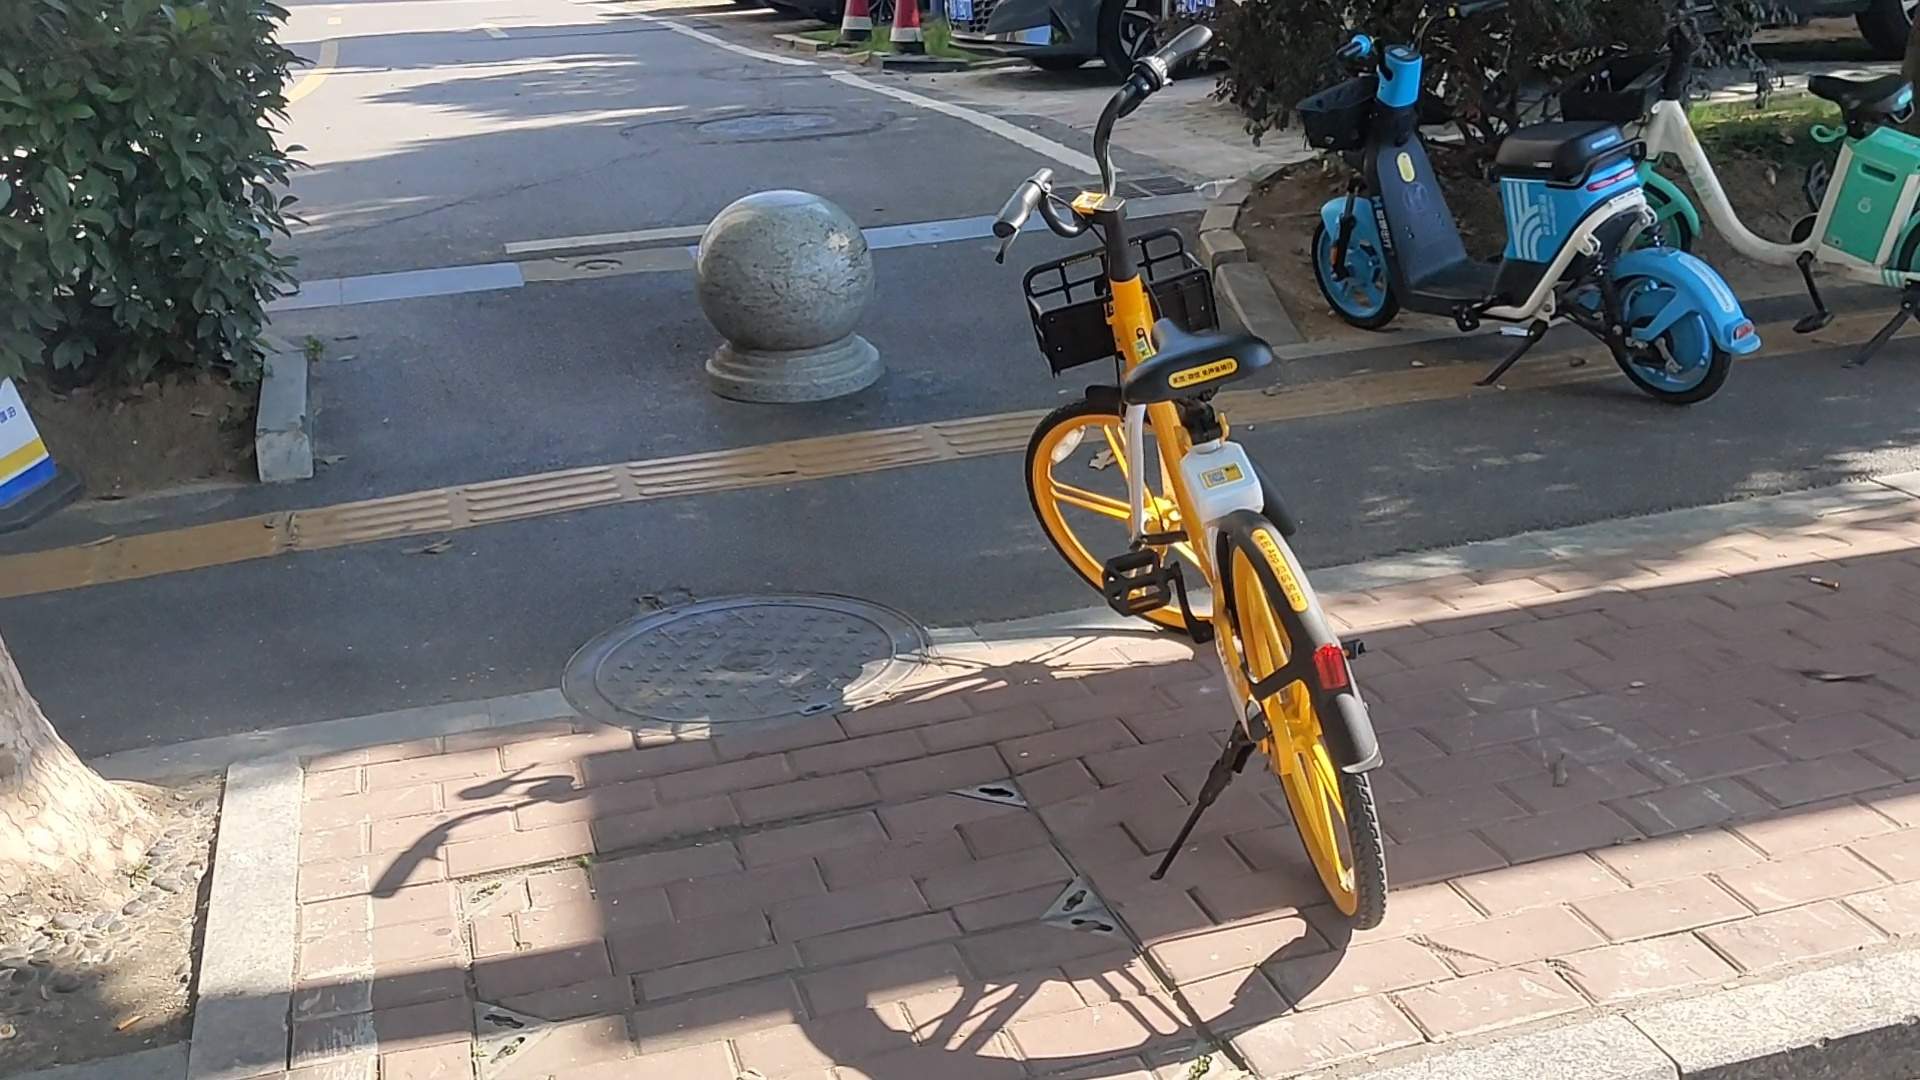non-vehicle: (972, 0, 1385, 986), (1299, 0, 1760, 406), (1575, 0, 1917, 396)
